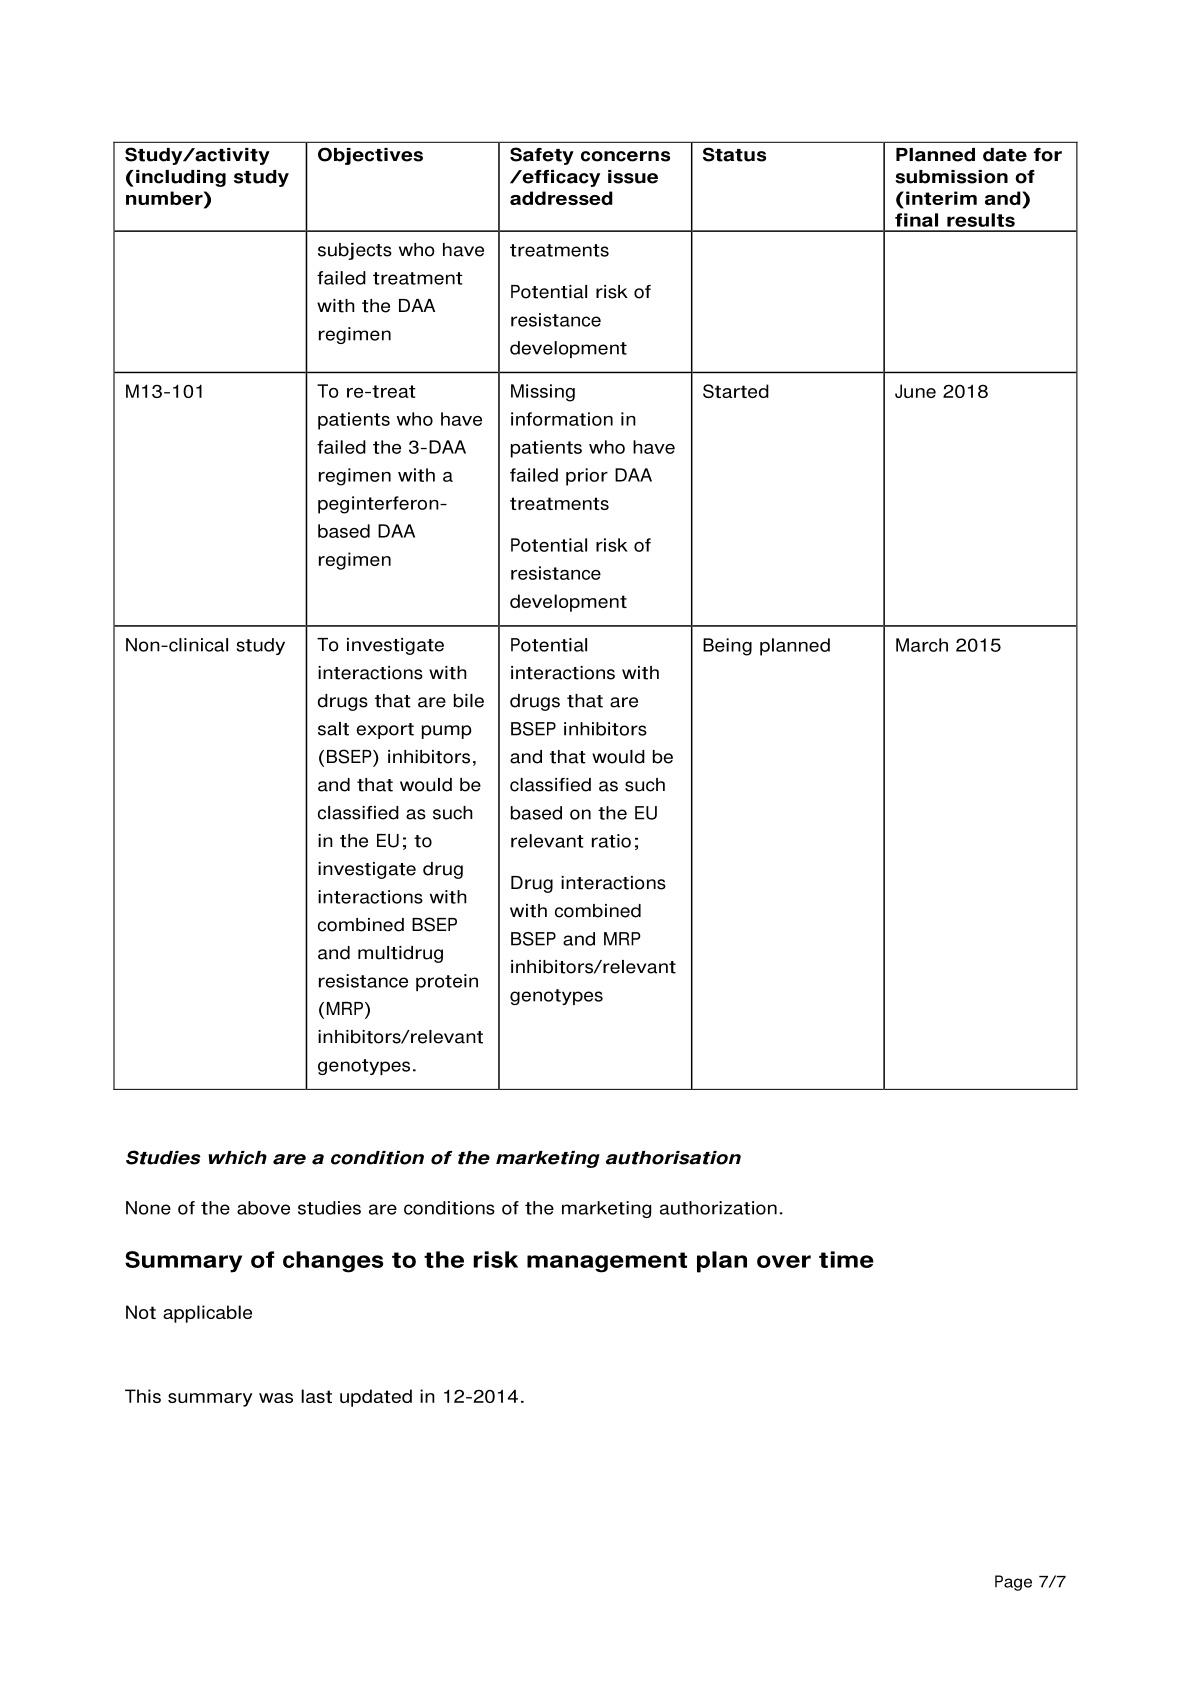full_lined: (113, 140, 1078, 1090)
